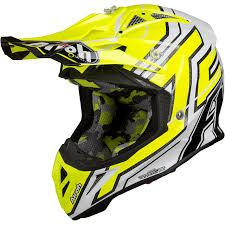helmet: (1, 4, 224, 219)
